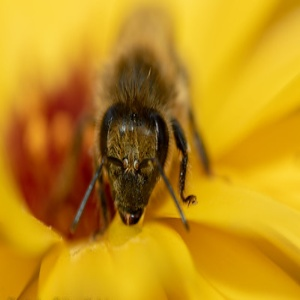bee: (97, 13, 190, 228)
